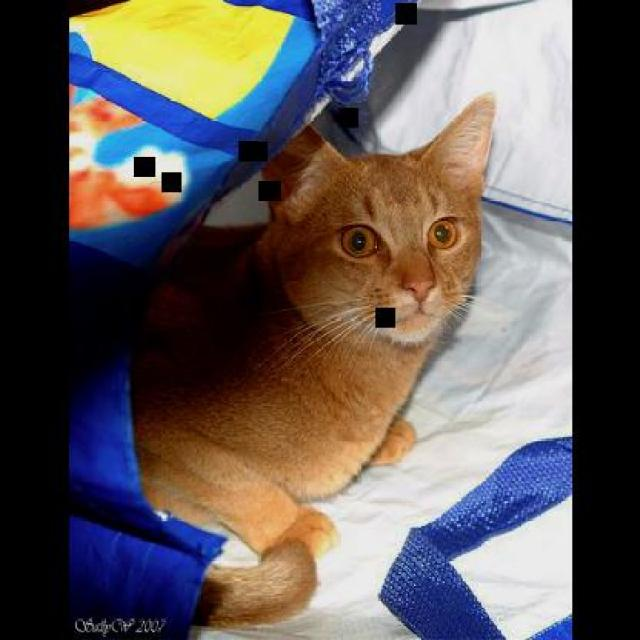unauthorized: (126, 90, 497, 628)
